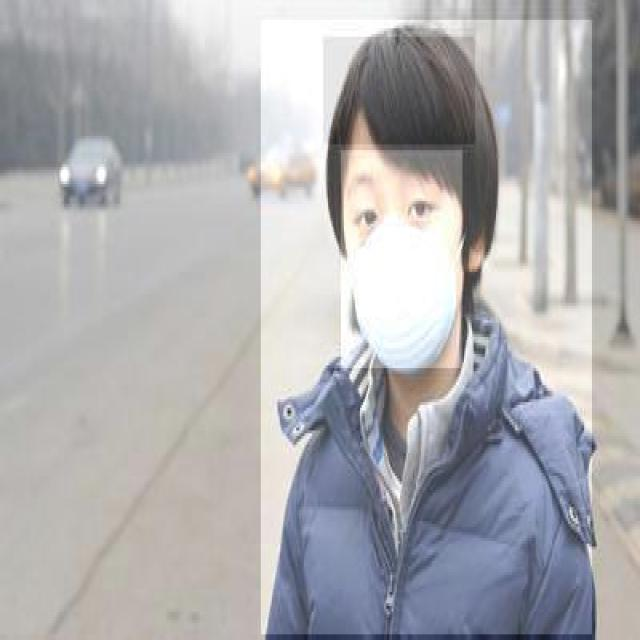face_mask: (341, 150, 464, 371)
head_nohelmet: (323, 37, 477, 147)
person: (261, 20, 594, 637)
